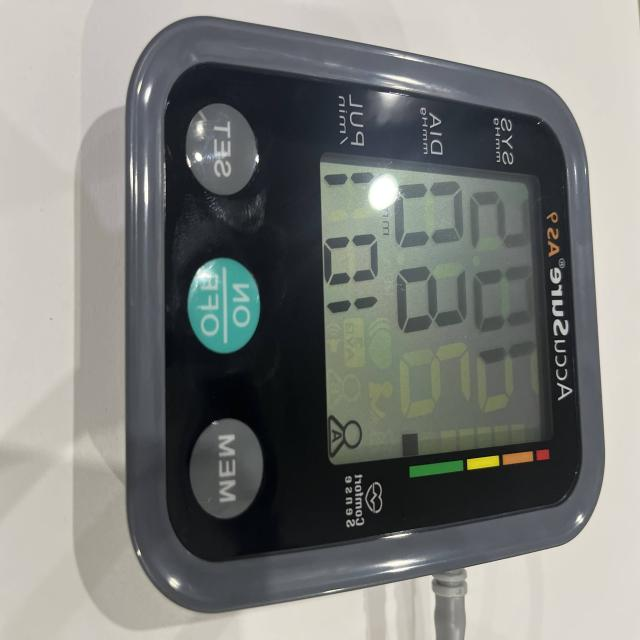bp: (80, 17, 608, 618)
